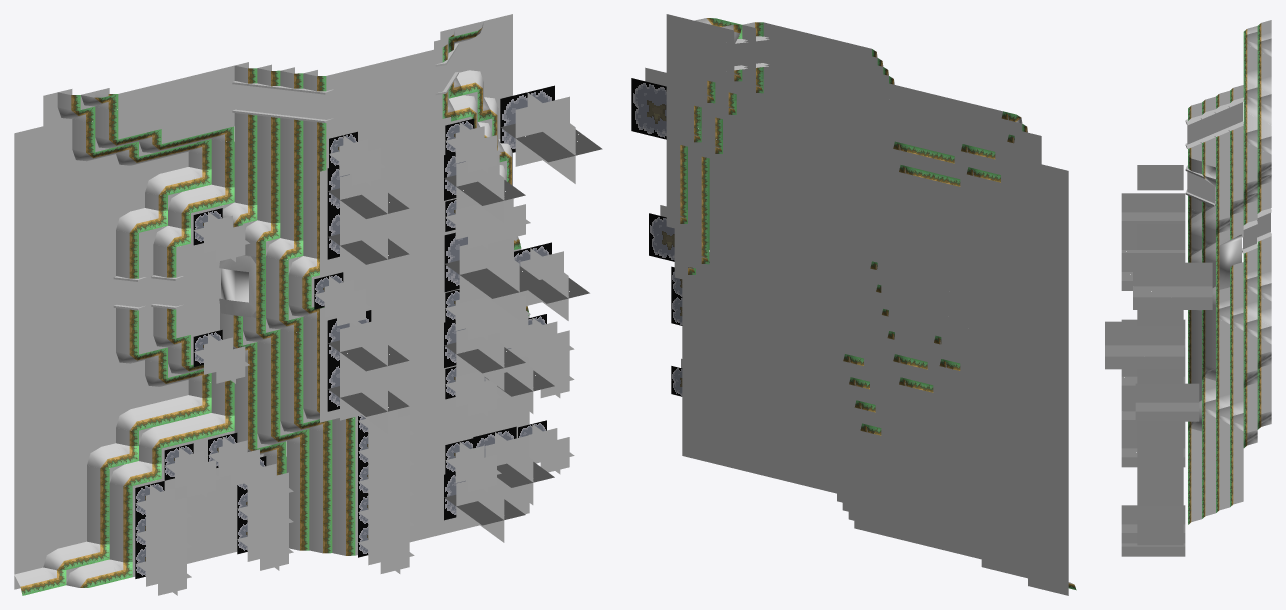
File: Barrier-Reef_01_04.obj
3 views of the same model, side by side, from view 1: azimuth 30°, elevation 25°; view 2: azimuth 150°, elevation 25°; view 3: azimuth 270°, elevation 25° (orthographic). The views are drawn at different scales.
Parts seen in each view (by area): view 1: map; view 2: map; view 3: map.
Part boxes in pixels (left/top/right/bottom): map: left=14, top=14, right=602, bottom=595; map: left=631, top=14, right=1076, bottom=595; map: left=1105, top=20, right=1271, bottom=556.
Size of the model in its own units: 34.75 by 32 by 11.95.
